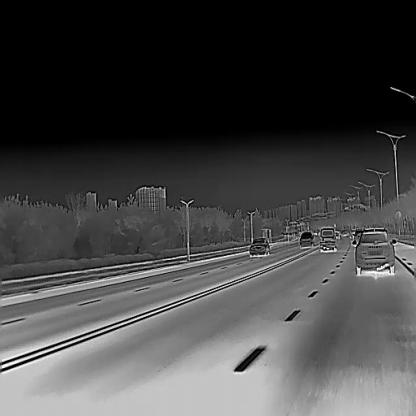car: (351, 226, 396, 274), (319, 227, 337, 252), (249, 237, 269, 256), (299, 231, 314, 247), (354, 229, 362, 240), (349, 228, 354, 238), (335, 231, 340, 239), (342, 230, 348, 236)
